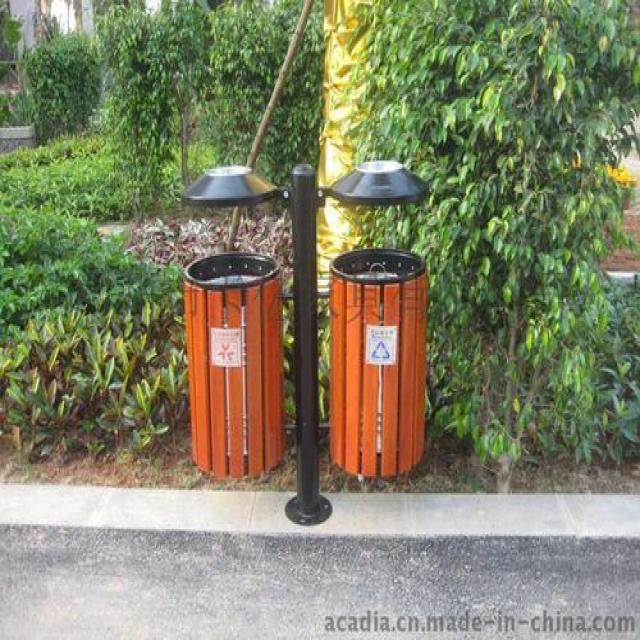garbage_bin: (178, 160, 427, 524)
